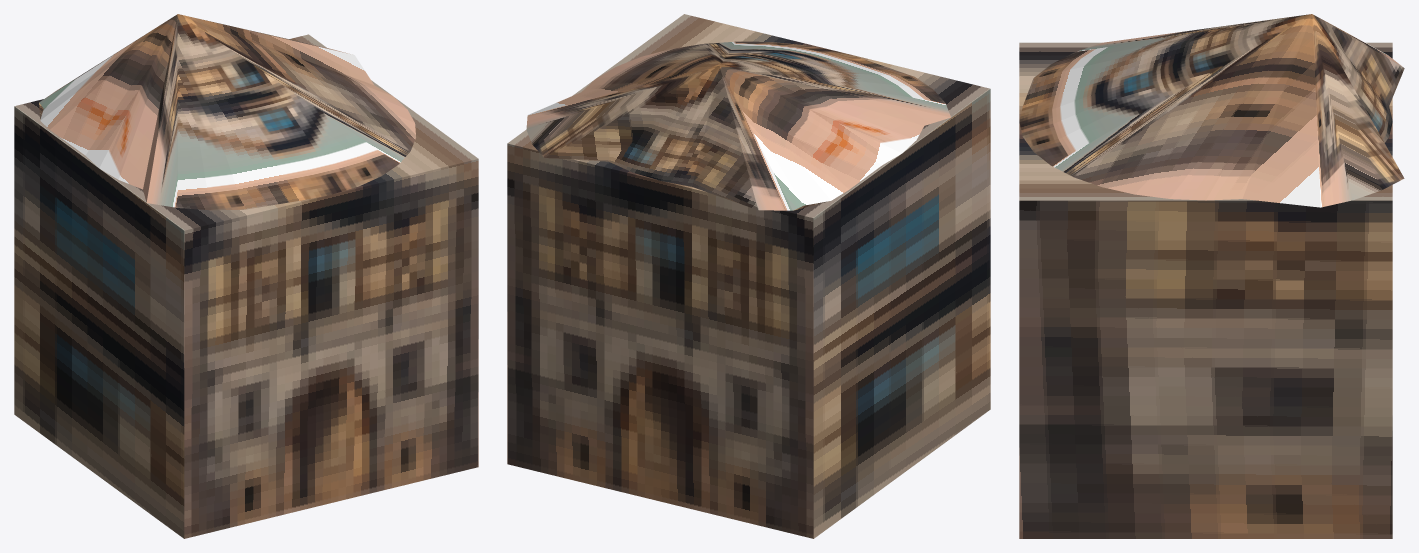
File: casa1.glb
3 views of the same model, side by side, from view 1: azimuth 30°, elevation 25°; view 2: azimuth 150°, elevation 25°; view 3: azimuth 270°, elevation 25° (orthographic). The views are drawn at different scales.
Visible parts, largest first — view 1: Cube, Cone; view 2: Cube, Cone; view 3: Cube, Cone.
Boxes of the visible parts, x1=… form: Cube: x1=14, y1=34, x2=478, y2=538; Cone: x1=39, y1=14, x2=415, y2=210; Cube: x1=507, y1=14, x2=990, y2=538; Cone: x1=526, y1=41, x2=950, y2=210; Cube: x1=1019, y1=42, x2=1392, y2=538; Cone: x1=1019, y1=14, x2=1404, y2=207.
Size of the model in its own units: 2.09 by 2.57 by 2.06.
4 materials, 4 textured.
